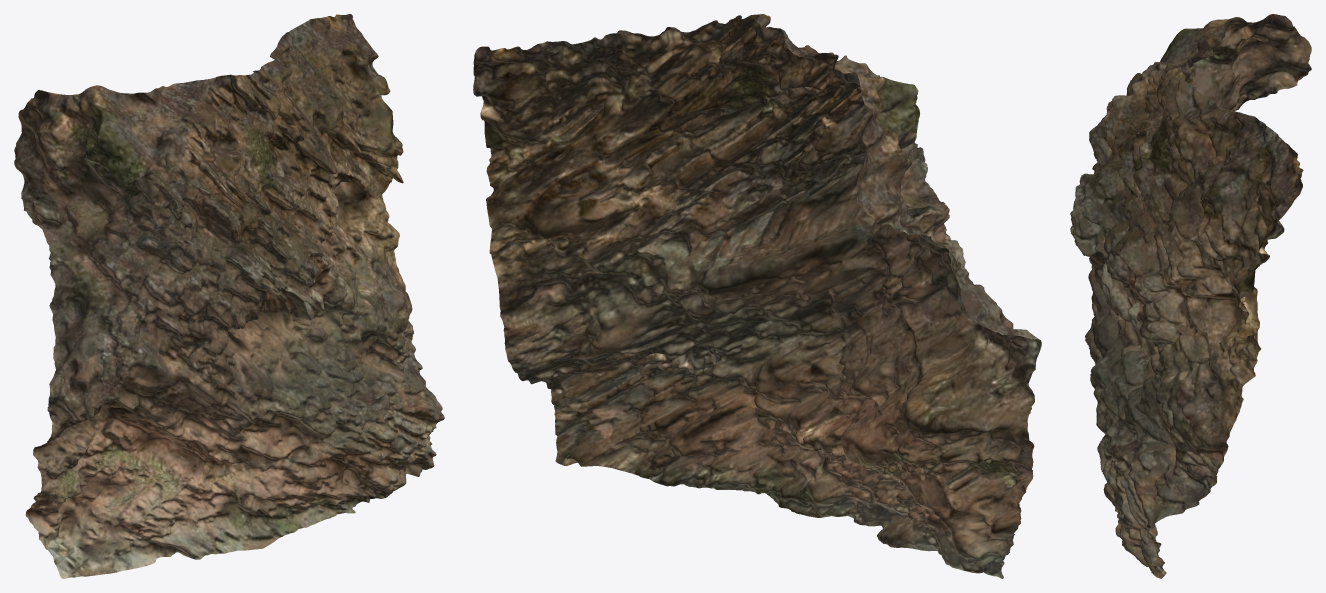
File: mountain-far.glb
3 renders of one model, left to right at view 1: azimuth 30°, elevation 25°; view 2: azimuth 150°, elevation 25°; view 3: azimuth 270°, elevation 25°, orthographic. The views are drawn at different scales.
Parts seen in each view (by area): view 1: mountainside; view 2: mountainside; view 3: mountainside.
Boxes of the visible parts, <box> form: mountainside: <box>14,14,444,578</box>; mountainside: <box>473,14,1041,578</box>; mountainside: <box>1070,14,1311,578</box>.
Size of the model in its own units: 10.21 by 10.52 by 5.25.
Materials: 1 (1 with a texture image).
